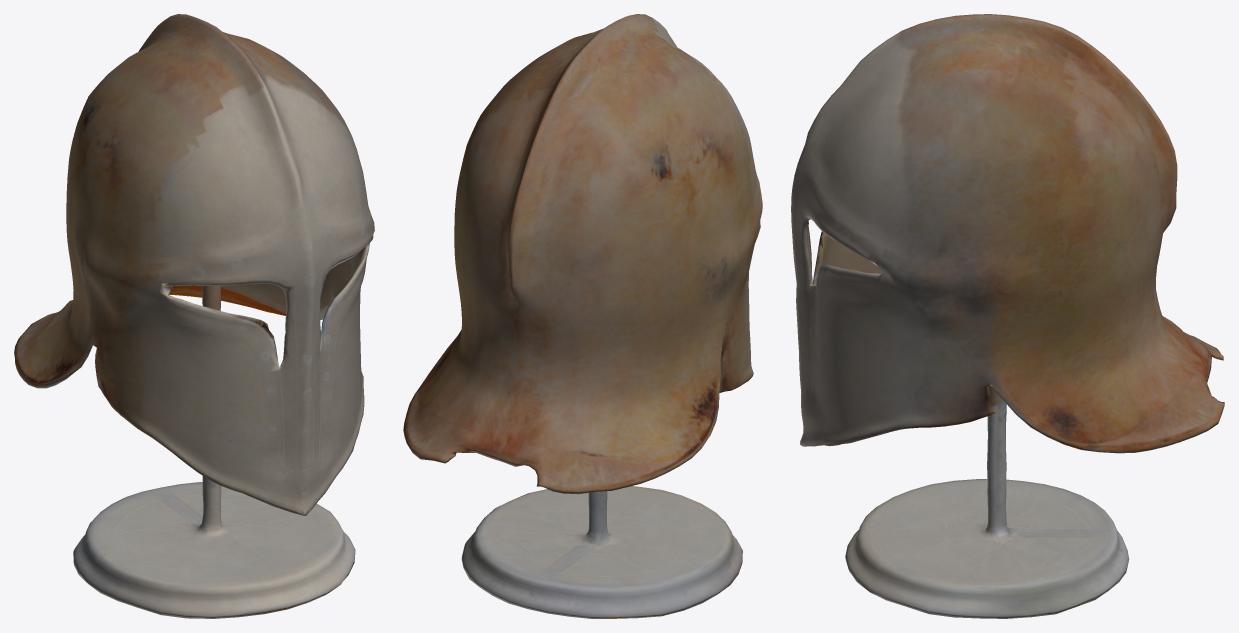
The model's file is Bronze Helmet.glb.
3 views of the same model, side by side, from view 1: azimuth 30°, elevation 25°; view 2: azimuth 150°, elevation 25°; view 3: azimuth 270°, elevation 25° (orthographic). The views are drawn at different scales.
Parts seen in each view (by area): view 1: file1; view 2: file1; view 3: file1.
Boxes of the visible parts, x1=… form: file1: x1=14, y1=14, x2=374, y2=618; file1: x1=403, y1=14, x2=762, y2=618; file1: x1=791, y1=14, x2=1224, y2=618.
Size of the model in its own units: 1.09 by 2 by 1.44.
Materials: 1 (1 with a texture image).
